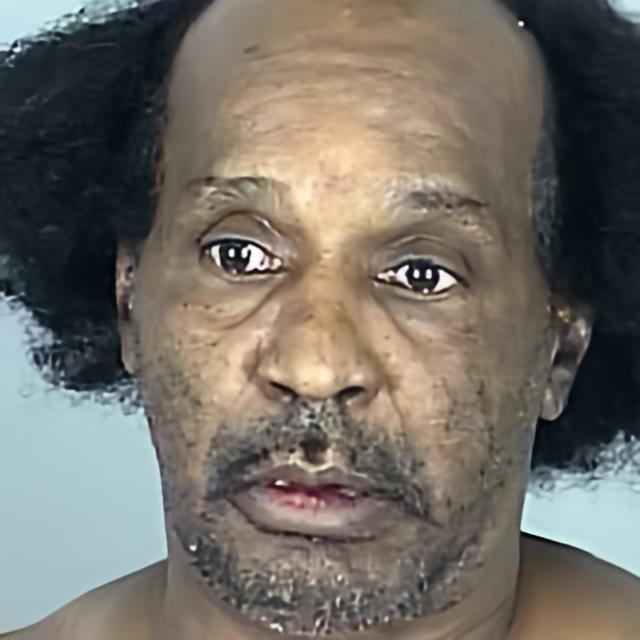surprise: (135, 0, 564, 640)
